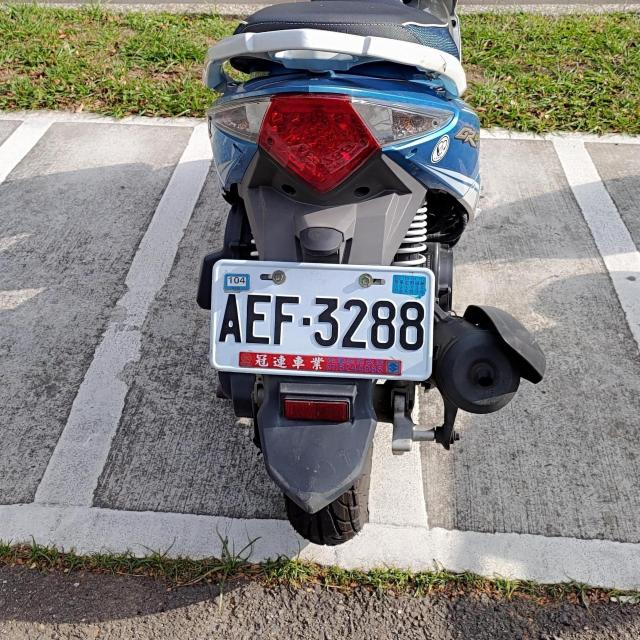W: (208, 260, 434, 378)
